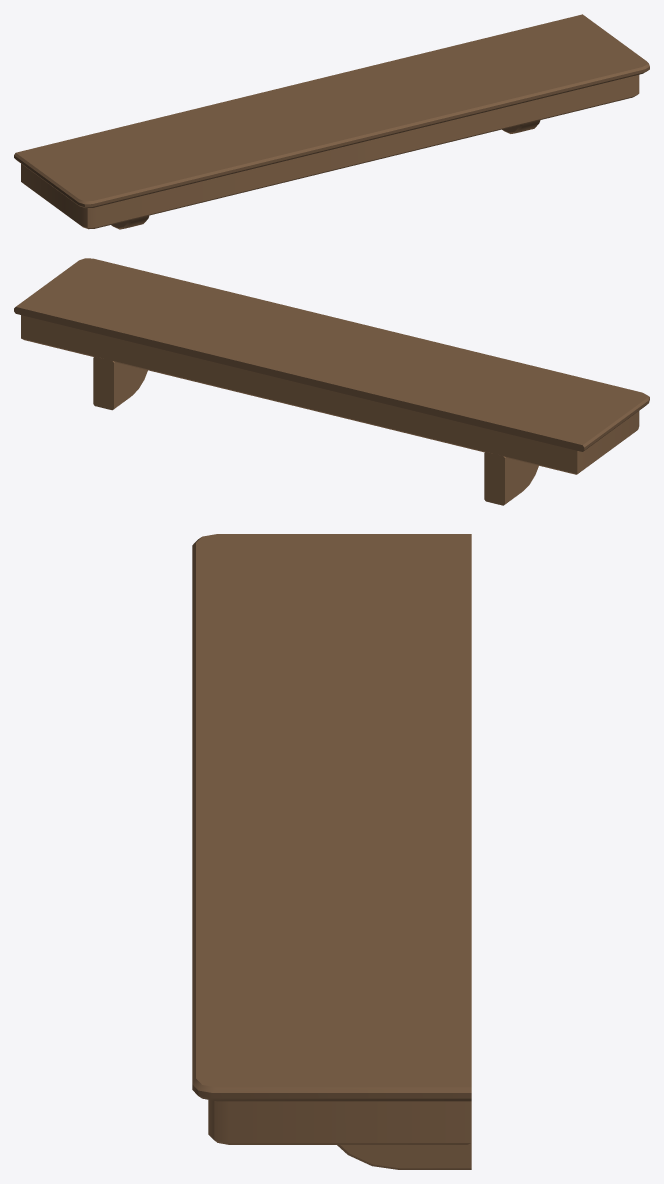
The model's file is Shelf.glb.
3 renders of one model, top to bottom at view 1: azimuth 30°, elevation 25°; view 2: azimuth 150°, elevation 25°; view 3: azimuth 270°, elevation 25°, orthographic. The views are drawn at different scales.
Visible parts, largest first — view 1: Shelf; view 2: Shelf; view 3: Shelf.
Boxes of the visible parts, x1,y1,x2,y2 form: Shelf: (14, 14, 649, 229); Shelf: (14, 258, 649, 505); Shelf: (192, 534, 471, 1169).
Bounding box in the file's own units: 1.32 × 0.1772 × 0.2806.
1 material, 1 textured.
